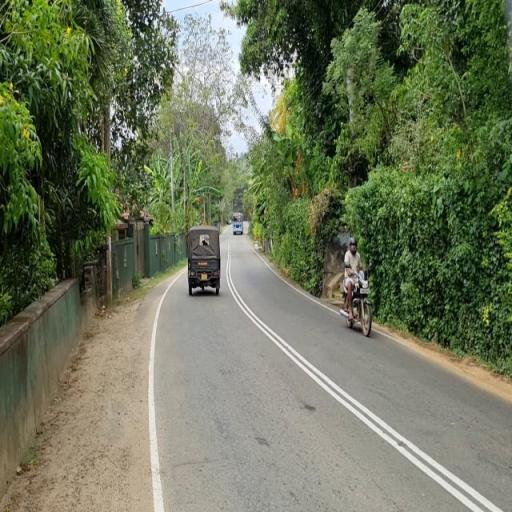double_white_line: (229, 247, 505, 512)
